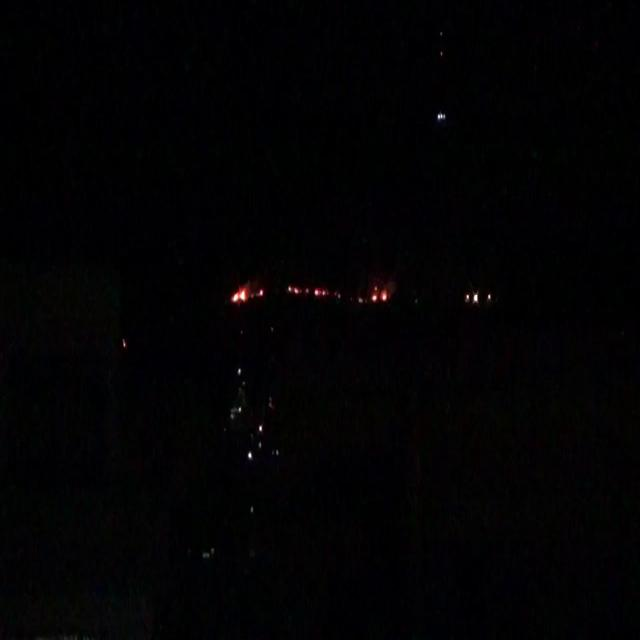Fire: (233, 282, 264, 303), (287, 285, 327, 295), (370, 289, 388, 300)
